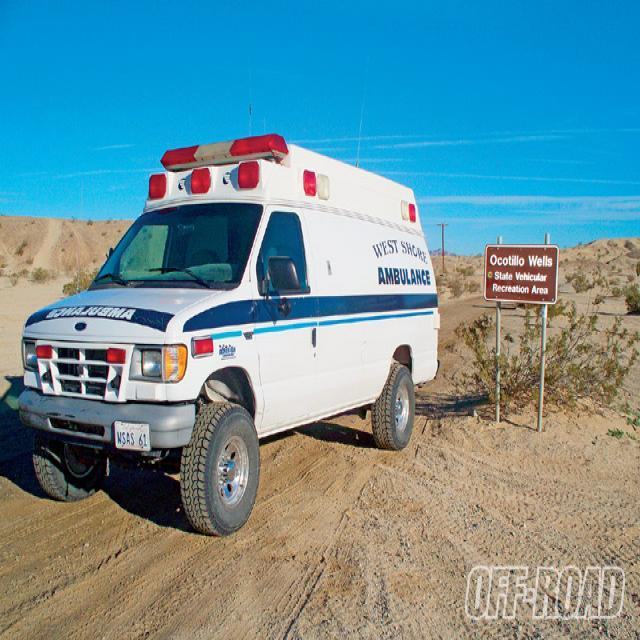emergency-vehicle: (17, 122, 445, 528)
